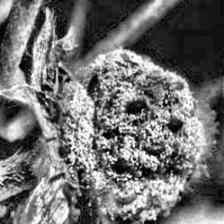Gray Mold: (46, 48, 219, 224)
